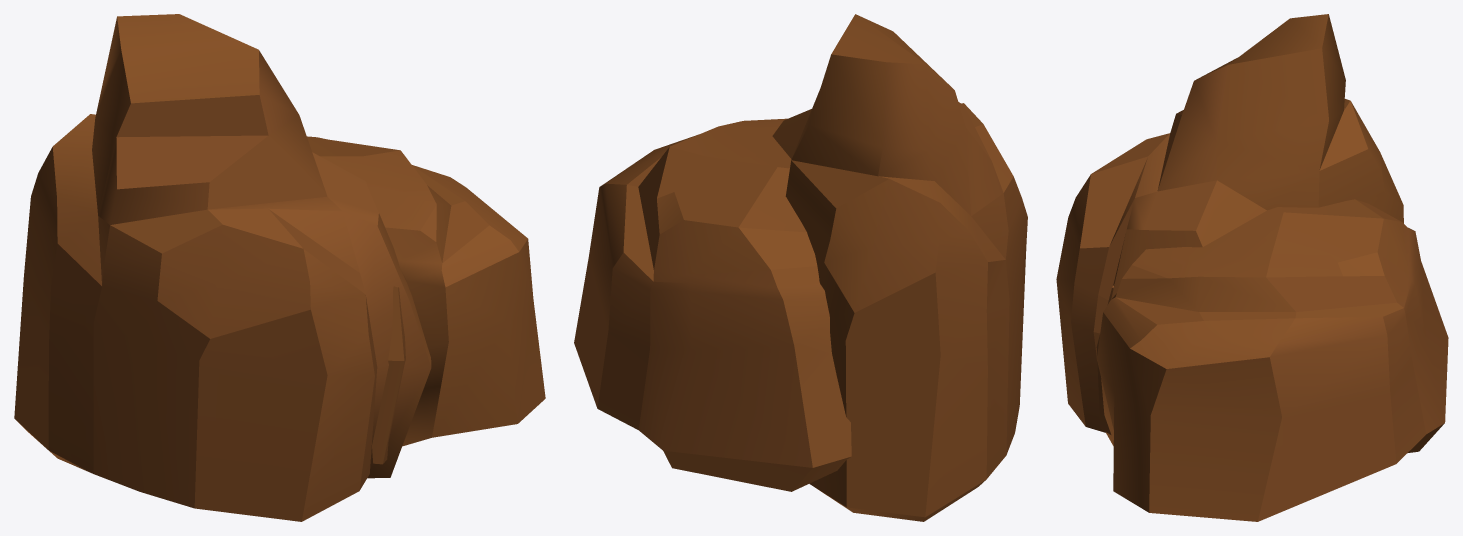
File: rock4_lev2.glb
3 renders of one model, left to right at view 1: azimuth 30°, elevation 25°; view 2: azimuth 150°, elevation 25°; view 3: azimuth 270°, elevation 25°, orthographic. The views are drawn at different scales.
Visible parts, largest first — view 1: Rock_Large_2.003; view 2: Rock_Large_2.003; view 3: Rock_Large_2.003.
Part boxes in pixels (x1=…): Rock_Large_2.003: x1=14, y1=14, x2=545, y2=521; Rock_Large_2.003: x1=574, y1=14, x2=1027, y2=521; Rock_Large_2.003: x1=1056, y1=14, x2=1448, y2=521.
Size of the model in its own units: 30.16 by 28.26 by 26.16.
1 material, 1 textured.
